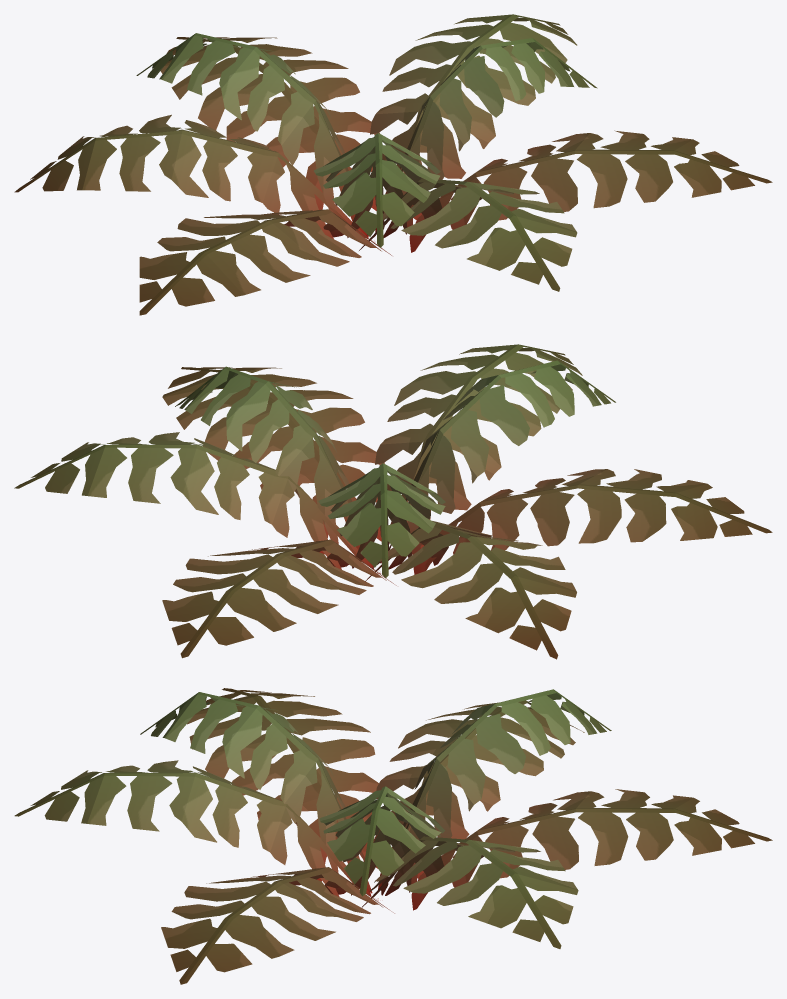
The model's file is synty-plant-fern-leaves-01.gltf.
The picture shows the model from 3 angles, top to bottom: view 1: azimuth 30°, elevation 25°; view 2: azimuth 150°, elevation 25°; view 3: azimuth 270°, elevation 25°; orthographic projection.
Parts seen in each view (by area): view 1: SM_Plant_Fern_Leaves_01; view 2: SM_Plant_Fern_Leaves_01; view 3: SM_Plant_Fern_Leaves_01.
Part boxes in pixels (x1,y1,x2,y2): SM_Plant_Fern_Leaves_01: (14, 14, 772, 315); SM_Plant_Fern_Leaves_01: (14, 344, 772, 659); SM_Plant_Fern_Leaves_01: (14, 688, 772, 984).
Bounding box in the file's own units: 1.29 × 0.3399 × 1.4.
Materials: 1 (1 with a texture image).
